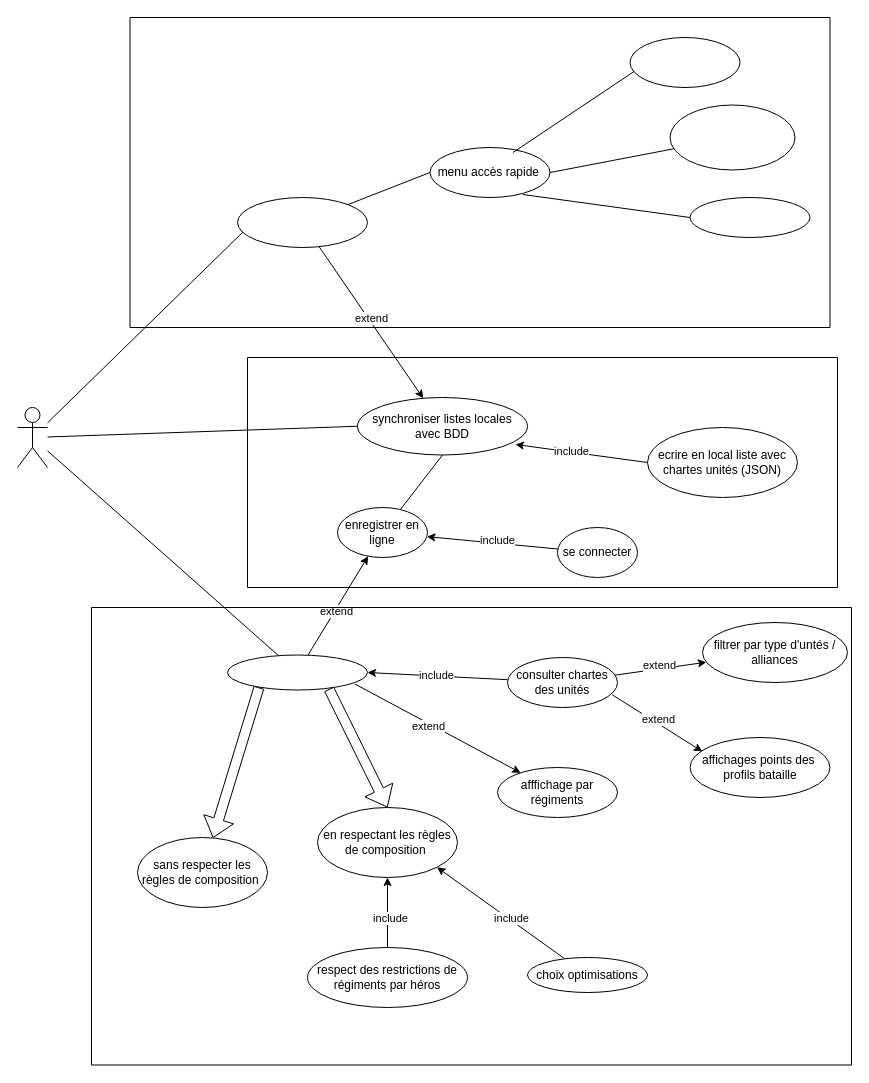
Some shapes in this 869 by 1083 pixel diagram are drawn without their labels. Here are the shapes that lost their labels. From the top down, the box of each, then its label:
(629, 36, 740, 88): optimisations
(669, 104, 795, 170): domaines de sorts / prière / invocations
(236, 196, 368, 248): consulter ses listes d'armés
(689, 196, 810, 238): chartes d'unités
(16, 406, 48, 468): User
(226, 654, 368, 690): faire sa liste d'armée
